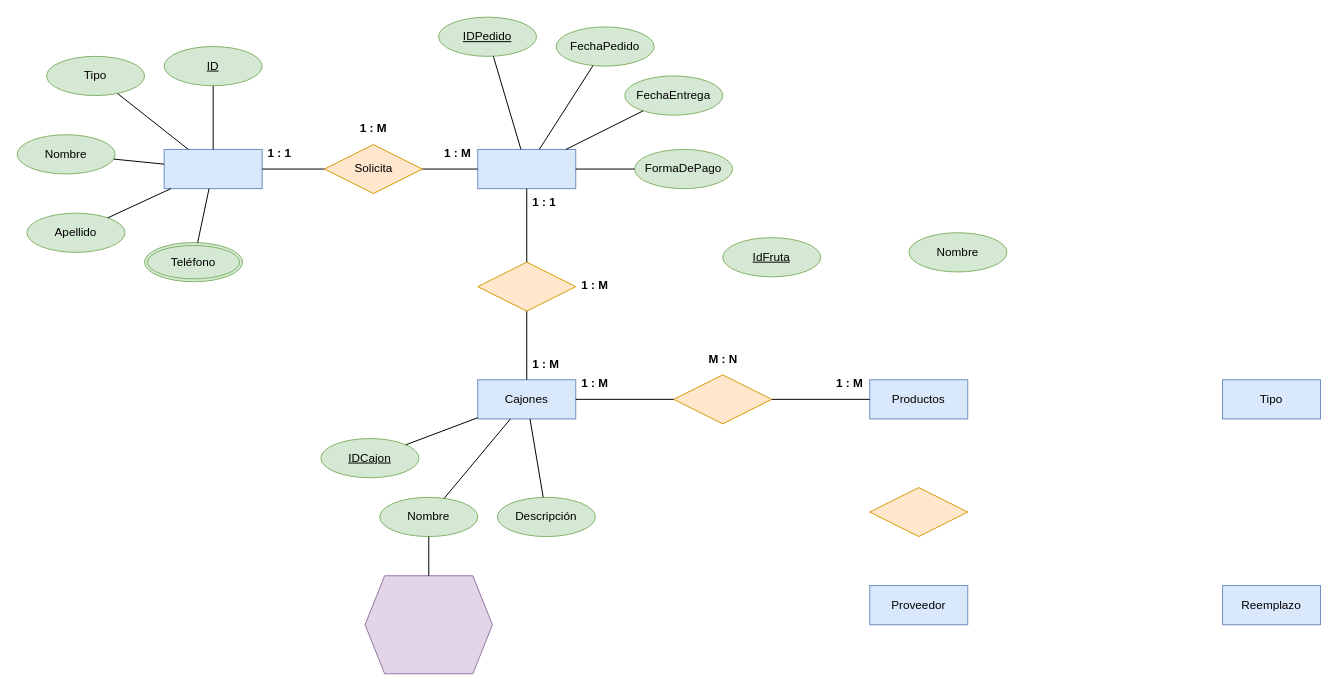
The diagram is 1338 pixels wide and 691 high, and some of its shapes have lost their labels. Here are the shapes that lost their labels. From the top down, the centre of each, then its label:
pixel 212 168: Clientes
pixel 526 168: Pedidos
pixel 526 286: Incluye
pixel 722 399: Contiene
pixel 918 512: Envían
pixel 428 624: “Jolgorio Tropical”, “Verde que te quiero verde”, “Chupate esa mandarina”, etc.
